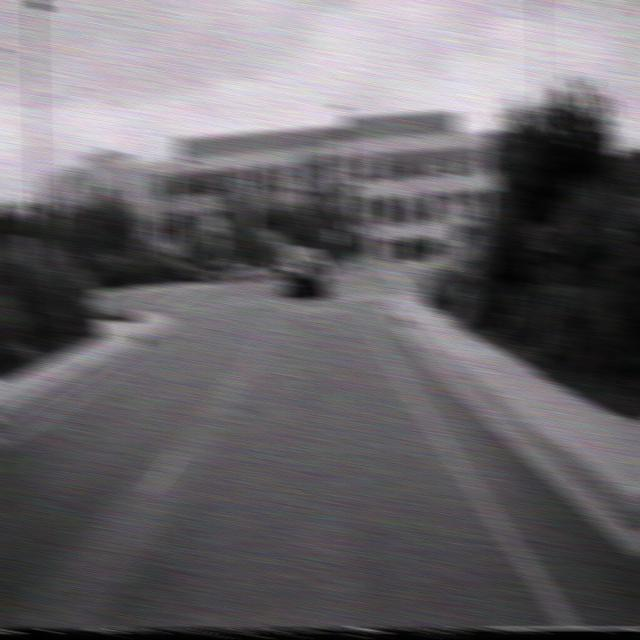stop_sign: (406, 180, 430, 212)
